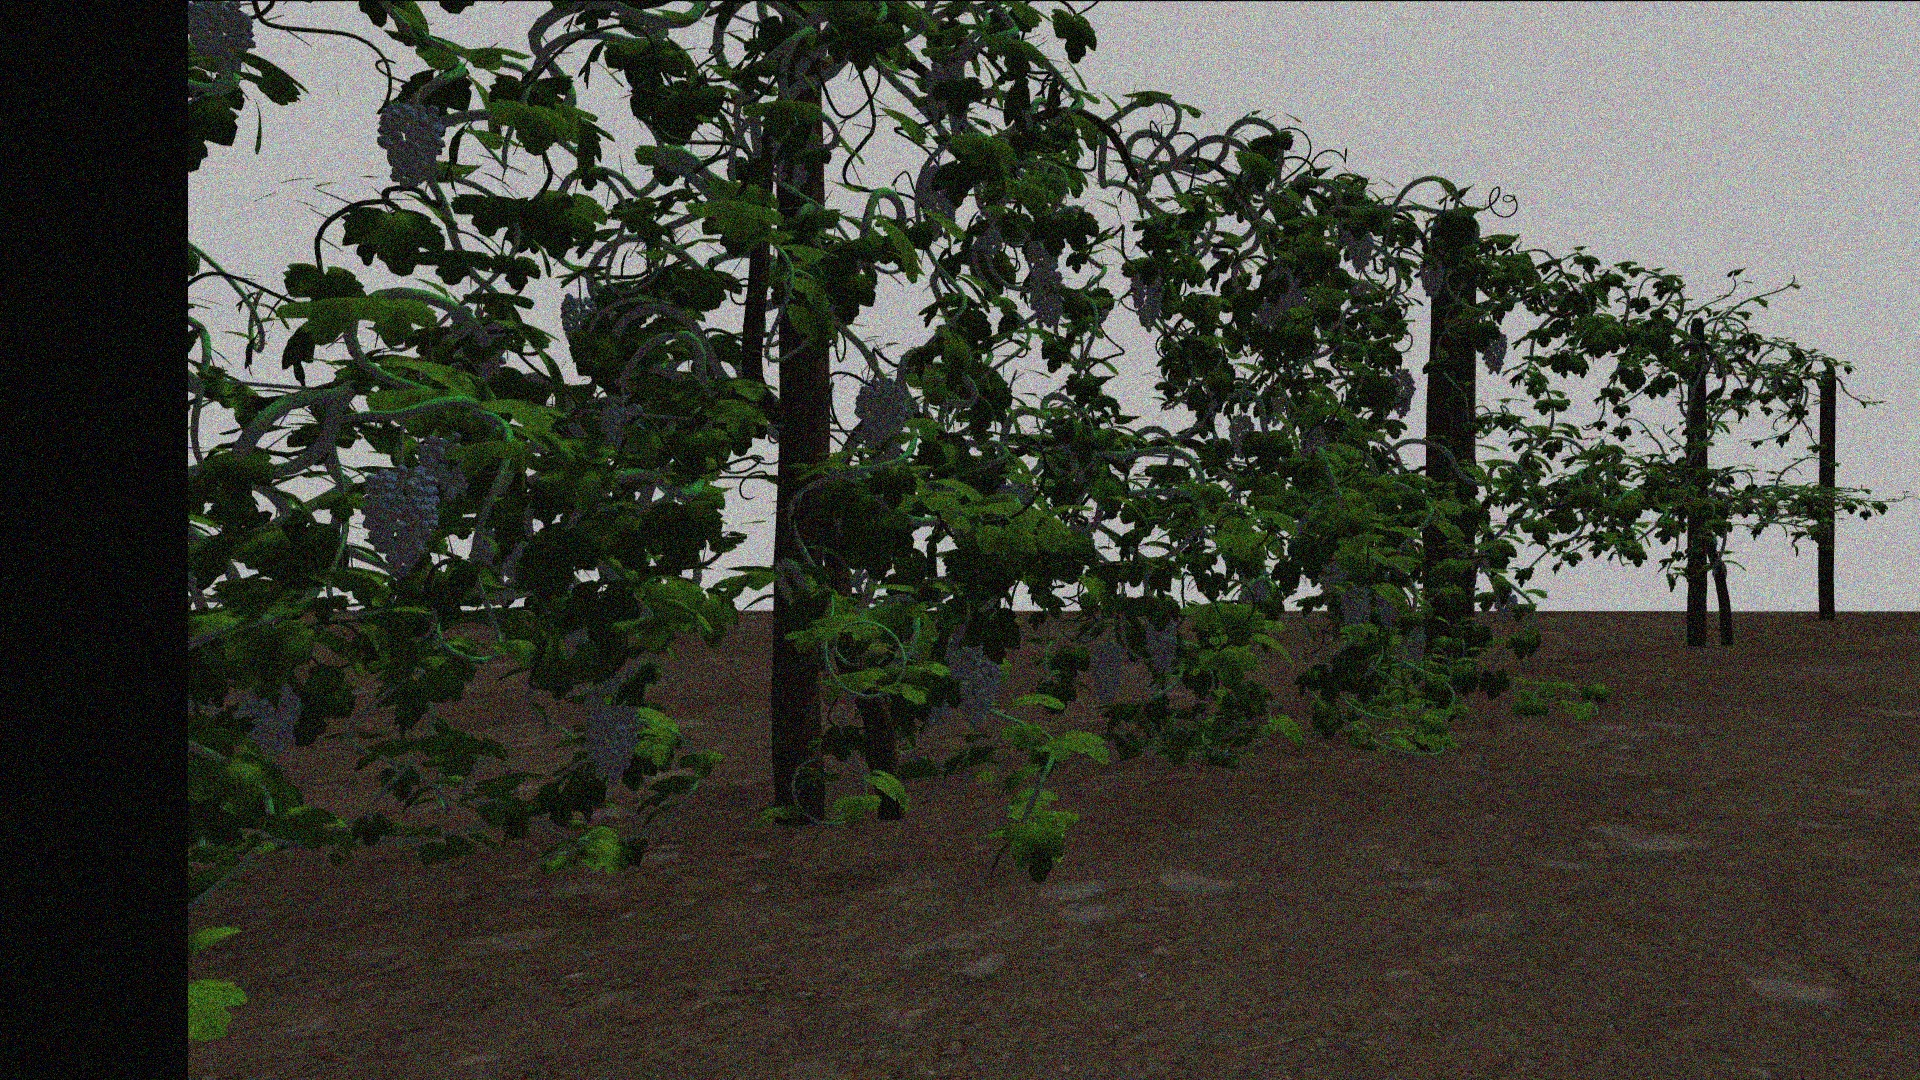grape: (359, 471, 444, 582), (582, 691, 647, 783), (375, 102, 446, 185), (231, 683, 306, 757), (949, 644, 1004, 727), (853, 382, 909, 458), (193, 8, 256, 69), (419, 434, 471, 500), (916, 164, 957, 239), (1091, 640, 1129, 709), (1127, 266, 1167, 334), (1030, 266, 1065, 326), (596, 401, 641, 447), (1145, 617, 1180, 675), (1341, 220, 1374, 272), (559, 294, 597, 335), (1338, 584, 1373, 626), (1390, 367, 1416, 419), (1481, 328, 1507, 375), (1374, 589, 1403, 630), (1418, 258, 1445, 301), (1229, 415, 1254, 459), (1402, 622, 1427, 662), (1494, 595, 1519, 622)
